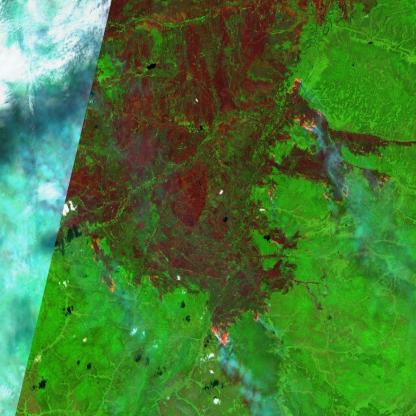fire: (281, 72, 328, 140), (84, 230, 116, 297), (199, 310, 234, 353), (318, 166, 353, 206), (370, 162, 394, 198), (241, 298, 263, 329), (263, 177, 282, 206), (145, 271, 162, 294)
